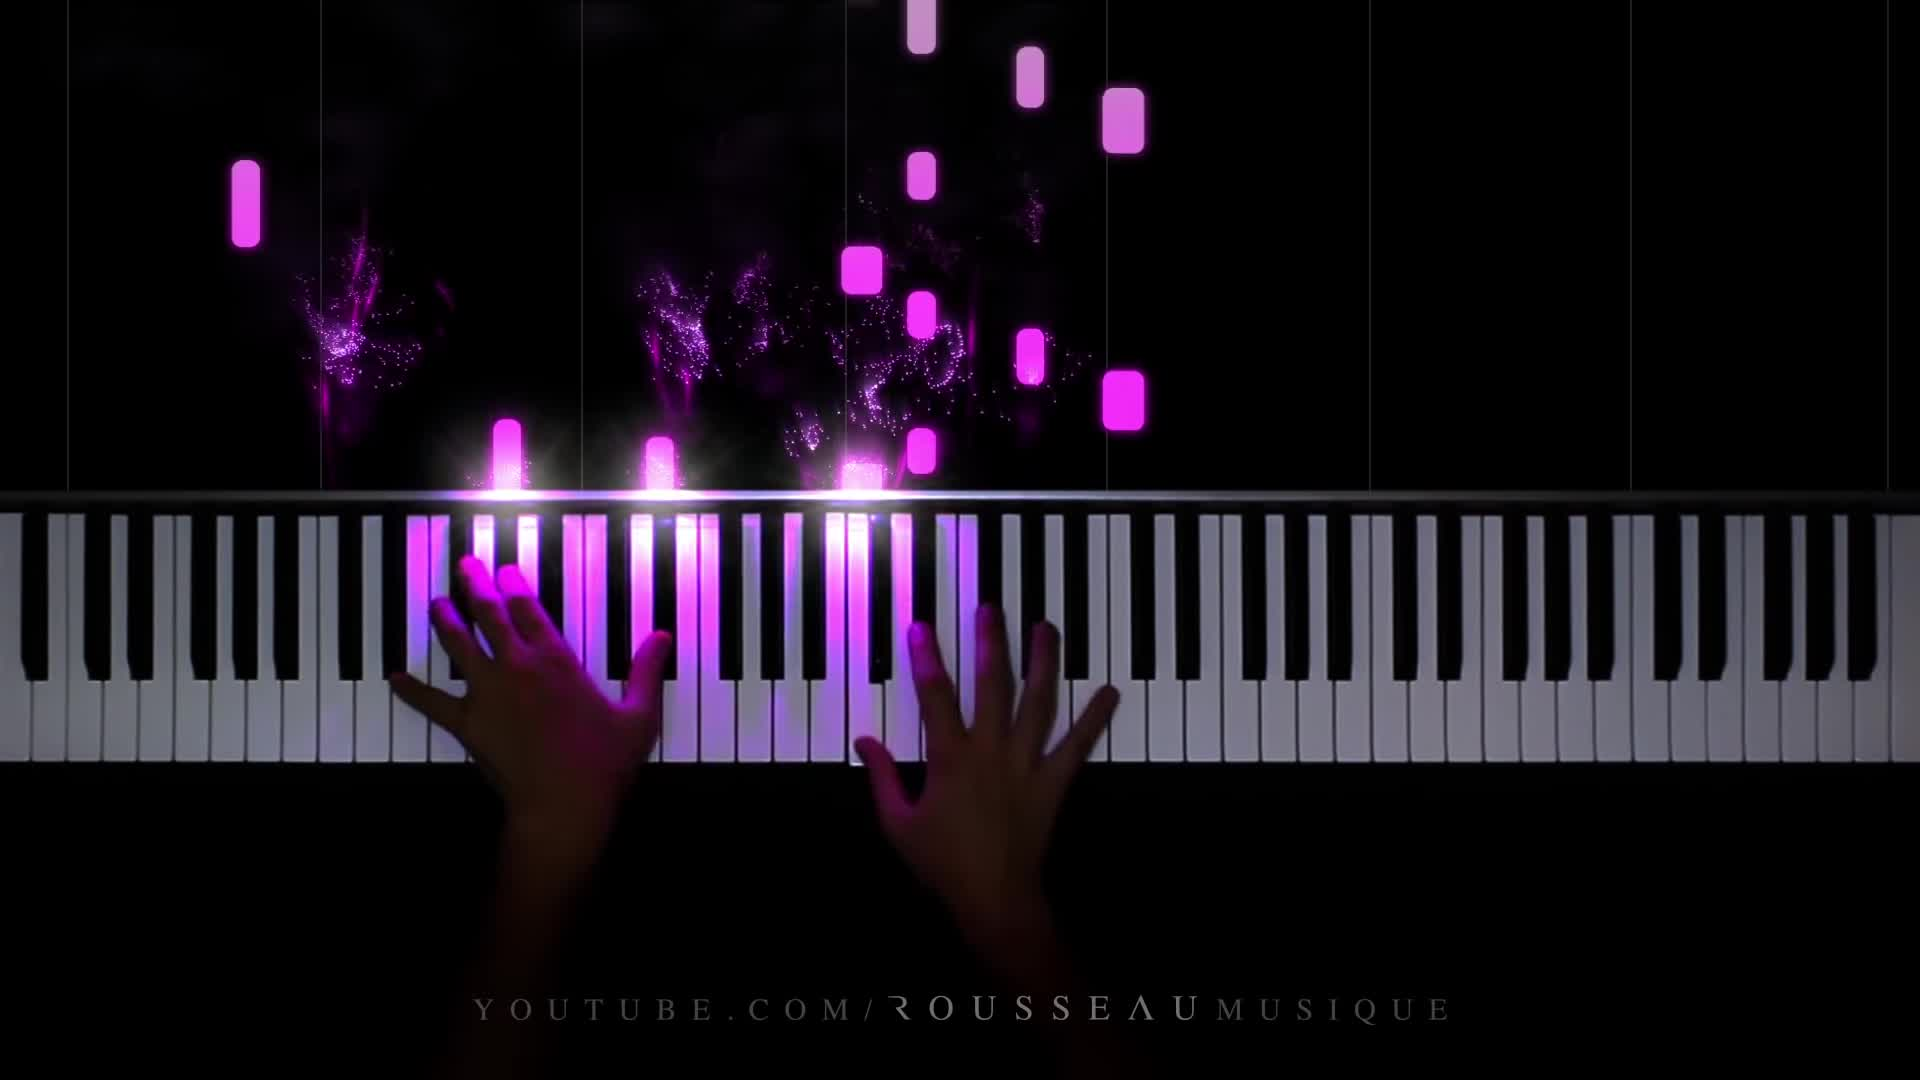left: (384, 549, 674, 796)
right: (852, 603, 1122, 873)
